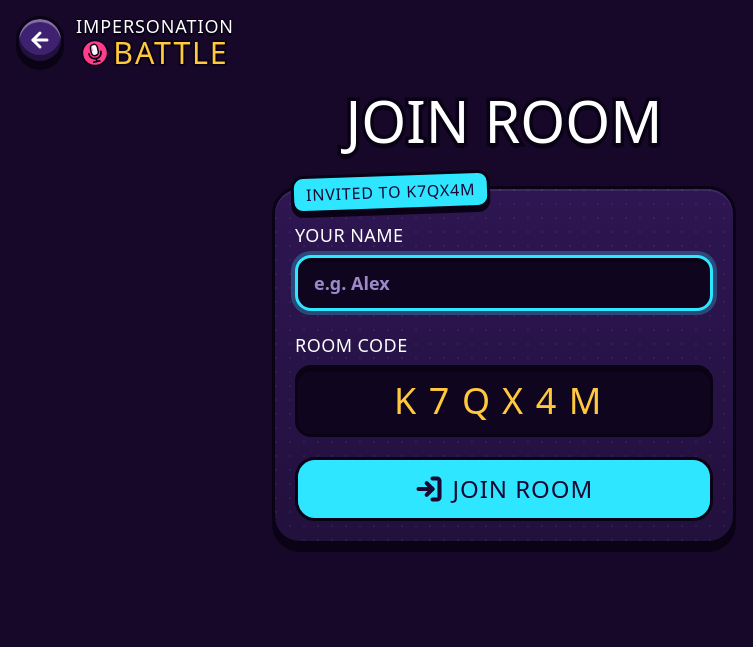
Test: JoinRoomPage › shows the server error
In the field labelled "Your name": (504, 283) [295,255,713,311], type "Ana"
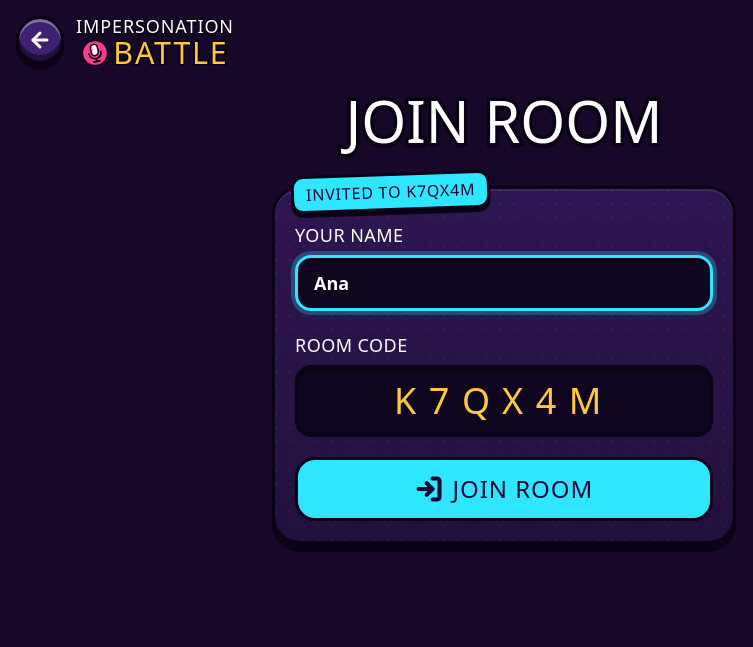
Click the button "Join Room": (504, 489) [295,457,713,521]
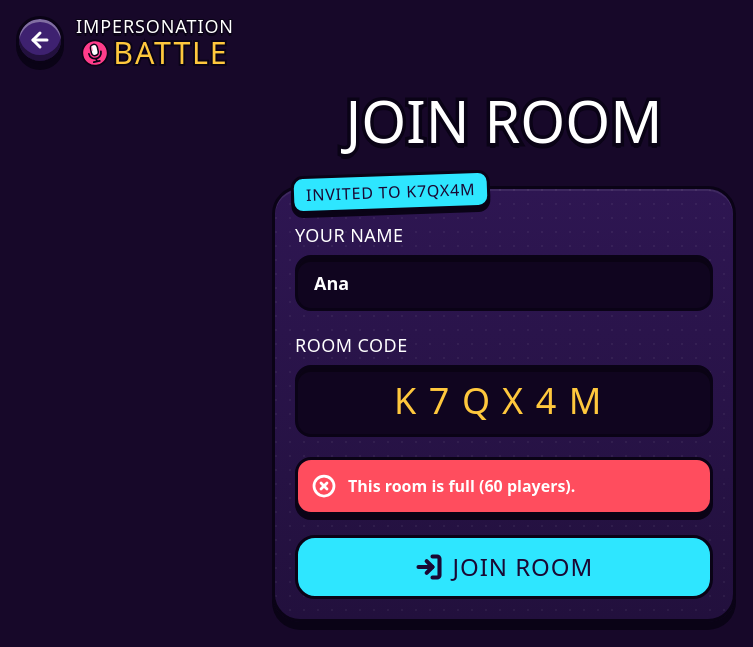
Now the message reads "This room is full (60 players).", box [348,475,575,497]
